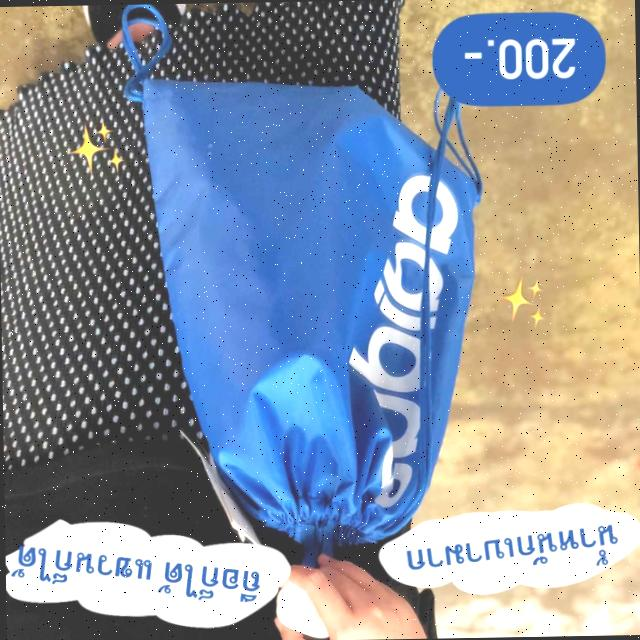Handbag: (132, 54, 484, 538)
